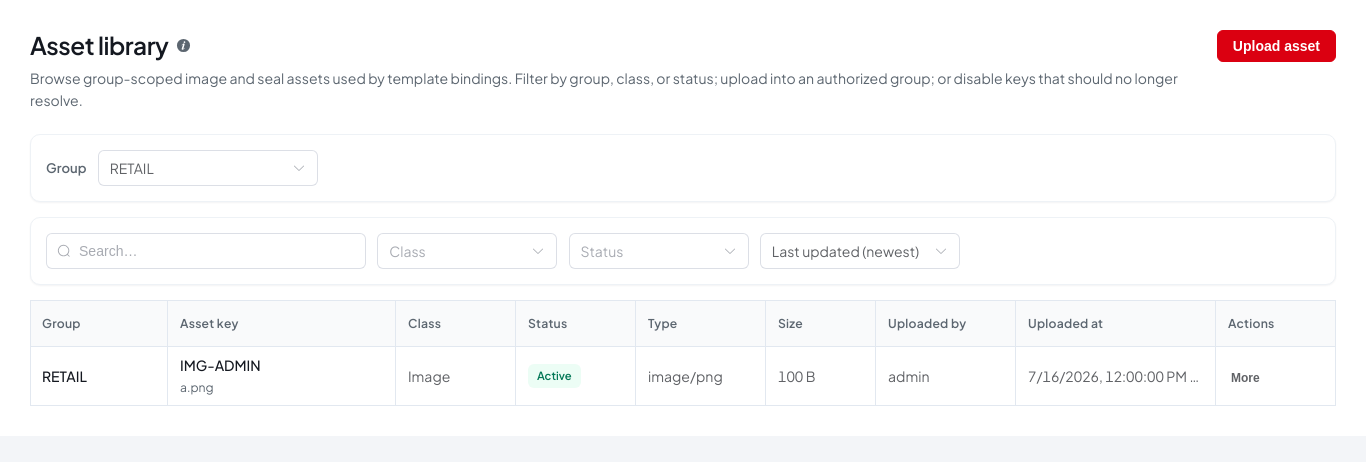
AssetLibraryListView › shows disable action for admins on ACTIVE rows
Click the button "More": (1245, 378) [1228,368,1263,386]
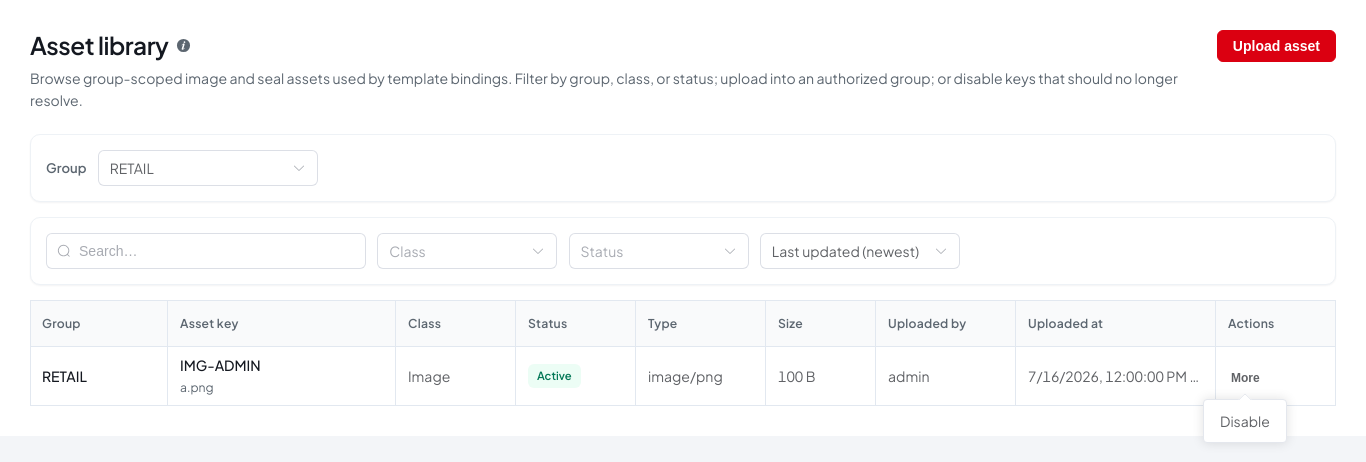
Expected: the menu item with test id "asset-library-disable" is shown, [1220,412,1270,430]
